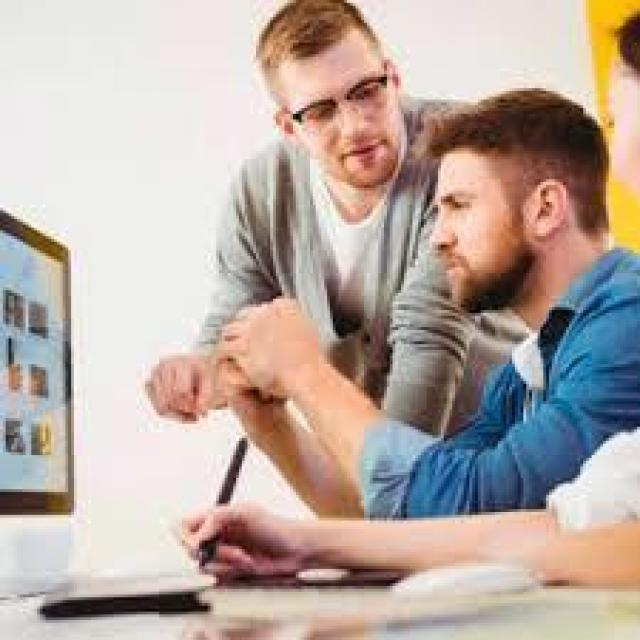person: (191, 71, 637, 512), (145, 0, 435, 603)
